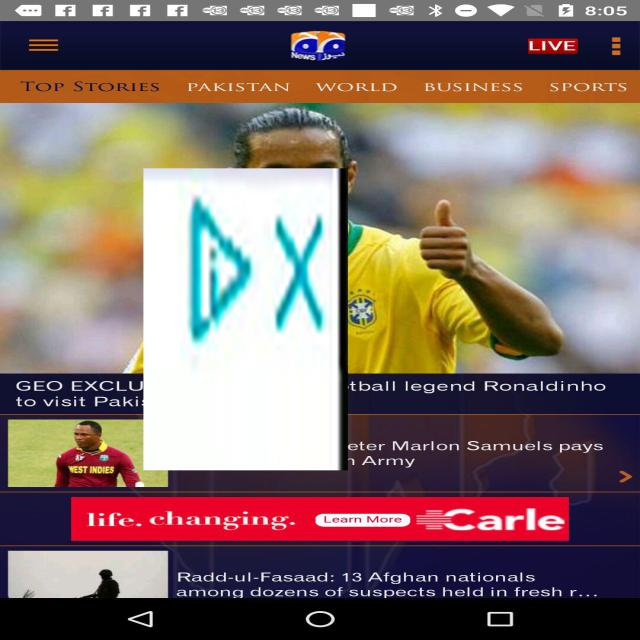sneaking: (143, 168, 348, 470)
